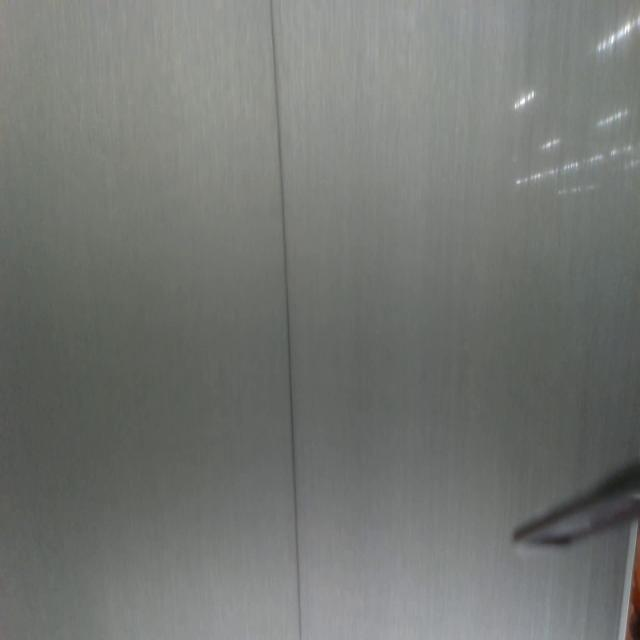crease: (268, 1, 304, 640)
